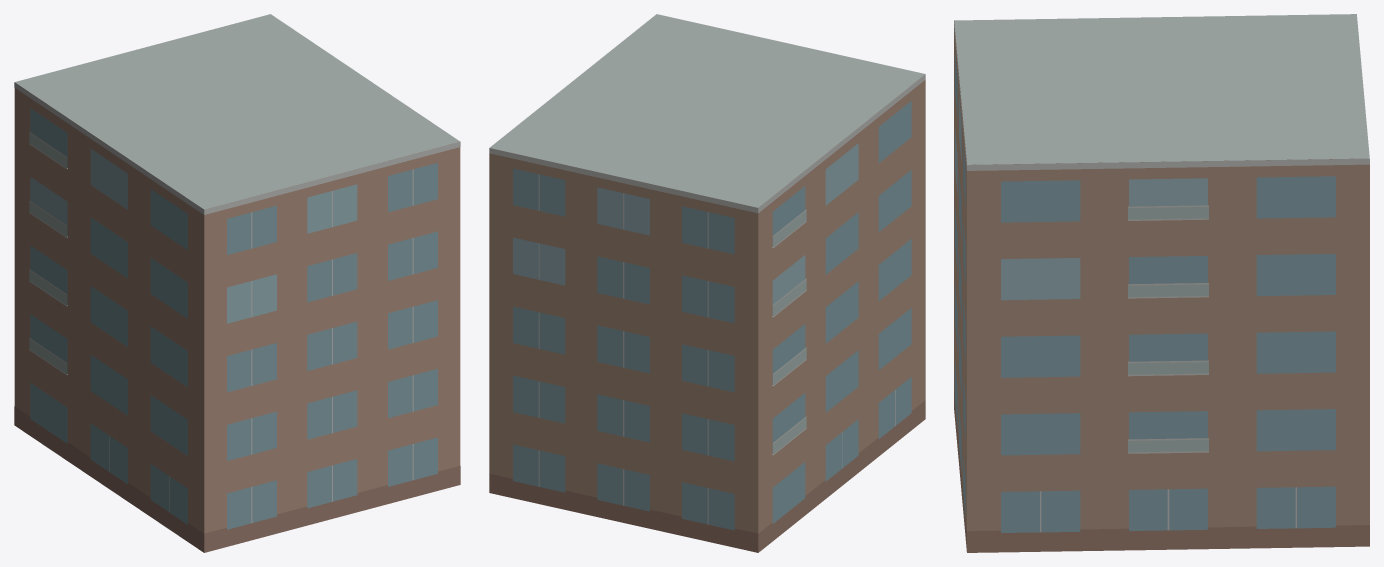
Rendered from survey-upis-32543851.glb.
3 renders of one model, left to right at view 1: azimuth 30°, elevation 25°; view 2: azimuth 150°, elevation 25°; view 3: azimuth 270°, elevation 25°, orthographic. The views are drawn at different scales.
Visible parts, largest first — view 1: survey-upis-32543851.tmp; view 2: survey-upis-32543851.tmp; view 3: survey-upis-32543851.tmp.
Boxes of the visible parts, <box> form: survey-upis-32543851.tmp: <box>14,14,460,552</box>; survey-upis-32543851.tmp: <box>489,14,925,552</box>; survey-upis-32543851.tmp: <box>954,14,1369,552</box>.
Size of the model in its own units: 12.93 by 15.5 by 15.06.
